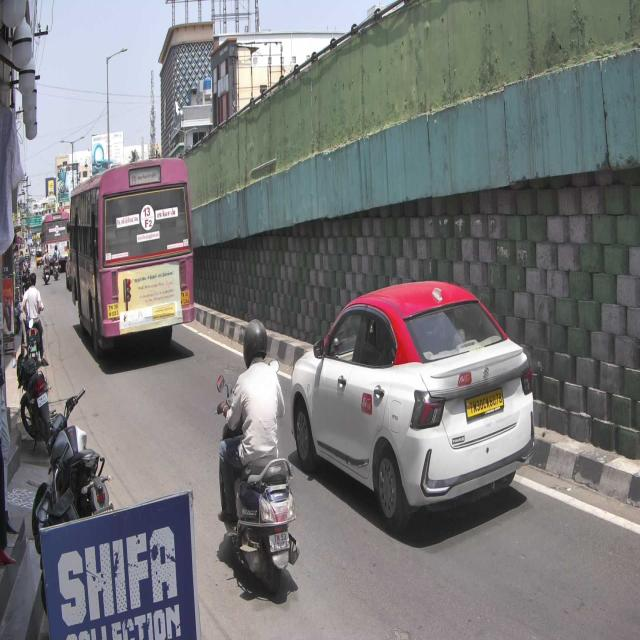single_rider: (213, 314, 302, 599)
